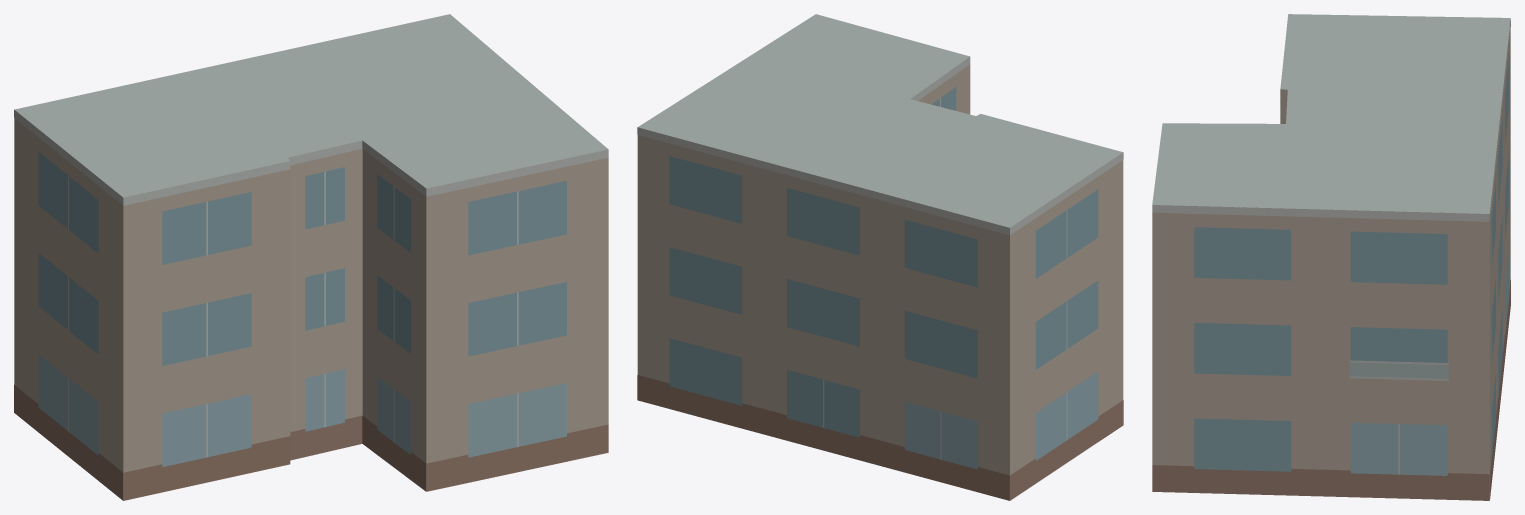
Rendered from survey-upis-32597242.glb.
3 renders of one model, left to right at view 1: azimuth 30°, elevation 25°; view 2: azimuth 150°, elevation 25°; view 3: azimuth 270°, elevation 25°, orthographic. The views are drawn at different scales.
Visible parts, largest first — view 1: survey-upis-32597242.tmp; view 2: survey-upis-32597242.tmp; view 3: survey-upis-32597242.tmp.
Boxes of the visible parts, x1,y1,x2,y2 form: survey-upis-32597242.tmp: (14, 14, 608, 500); survey-upis-32597242.tmp: (637, 14, 1123, 500); survey-upis-32597242.tmp: (1152, 14, 1510, 500).
Bounding box in the file's own units: 13.47 × 9 × 10.21.
